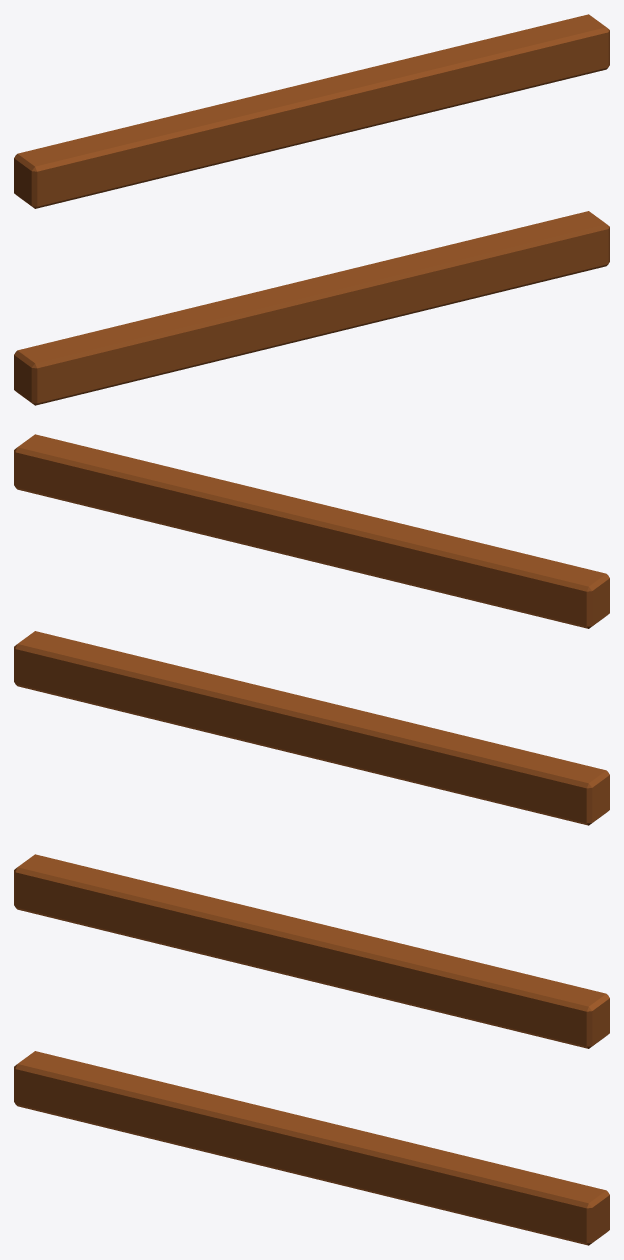
File: D02_Fence_Rails_2m.fbx
3 views of the same model, one above another, from view 1: azimuth 30°, elevation 25°; view 2: azimuth 150°, elevation 25°; view 3: azimuth 330°, elevation 25° (orthographic).
Parts seen in each view (by area): view 1: D02_Fence_Rails_2m; view 2: D02_Fence_Rails_2m; view 3: D02_Fence_Rails_2m.
Part boxes in pixels (left/top/right/bottom): D02_Fence_Rails_2m: left=14, top=14, right=609, bottom=405; D02_Fence_Rails_2m: left=14, top=434, right=609, bottom=825; D02_Fence_Rails_2m: left=14, top=854, right=609, bottom=1245.
Bounding box in the file's own units: 2 × 0.79 × 0.13.
1 material, 1 textured.
